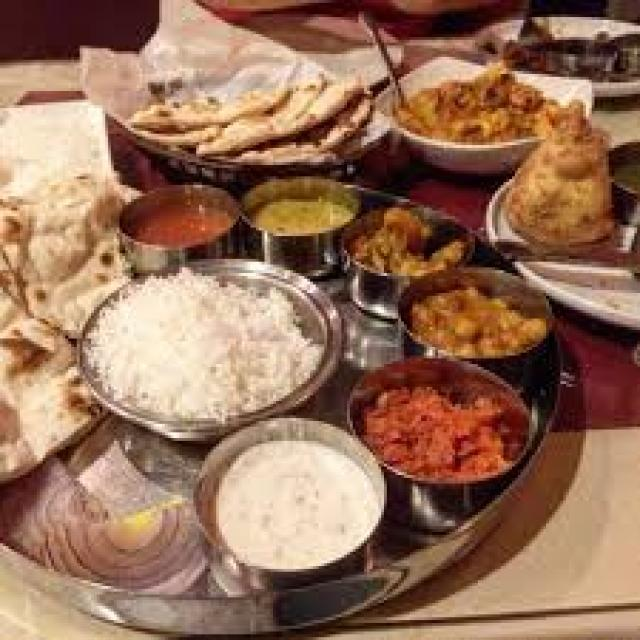dal: (241, 170, 360, 249)
rice: (92, 260, 338, 443), (391, 261, 555, 366)
roti: (5, 131, 125, 355), (477, 94, 627, 261)
sweet: (347, 349, 540, 493), (123, 184, 235, 255)
veg-fry: (345, 348, 541, 496)
